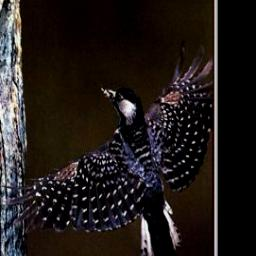Woodpecker: (1, 46, 213, 256)
